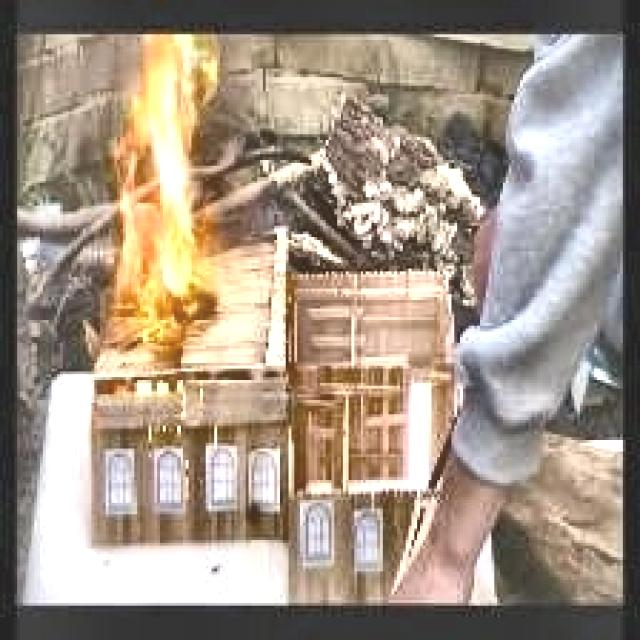fire: (108, 33, 220, 330)
